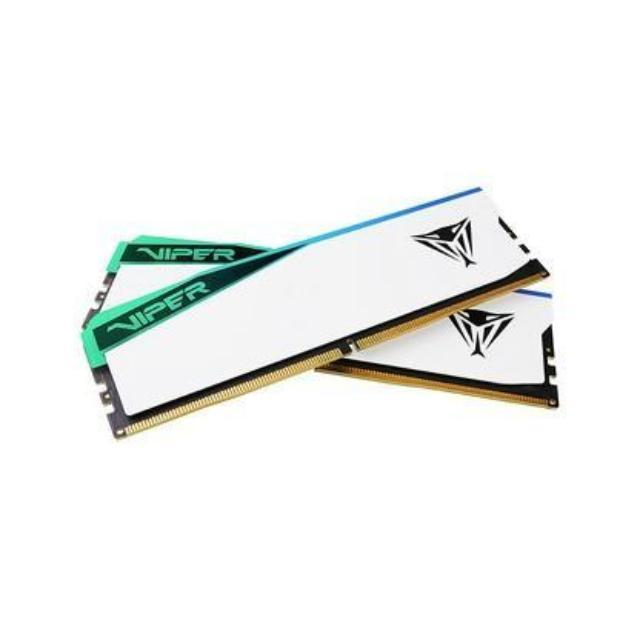RAM: (74, 179, 568, 450)
